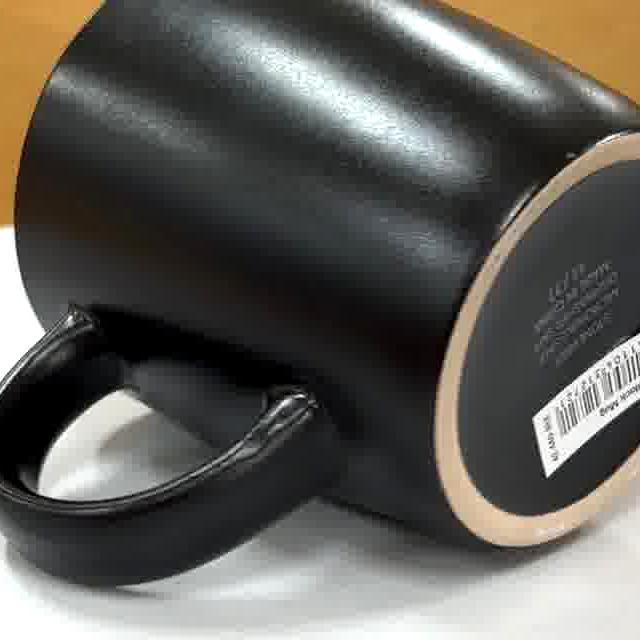cup: (0, 0, 640, 588)
